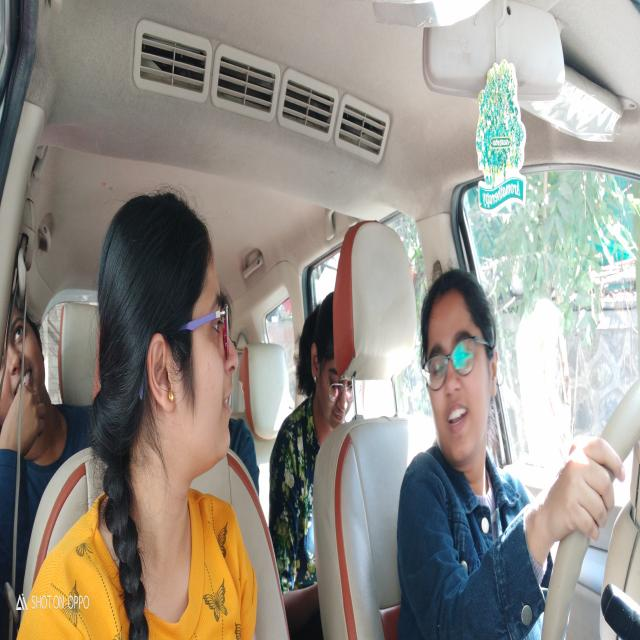drowsy: (419, 260, 503, 471)
person: (97, 181, 242, 501), (297, 287, 364, 441), (0, 298, 50, 456)
